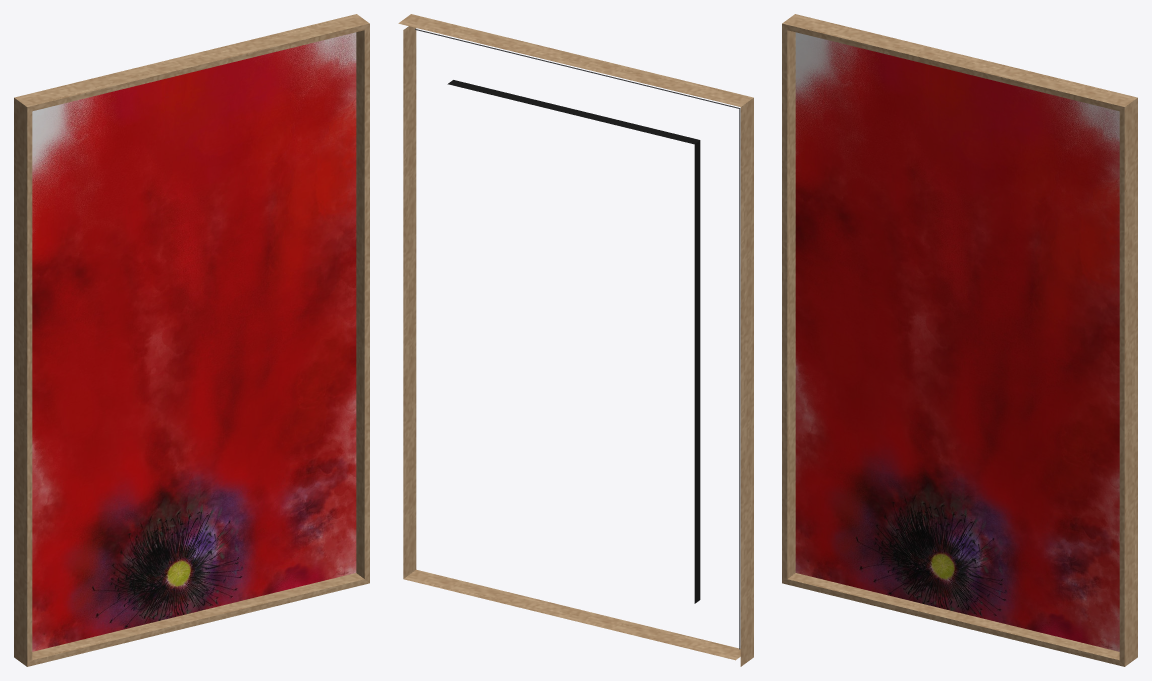
Rendered from os030_moyen_caisse-chene.glb.
3 renders of one model, left to right at view 1: azimuth 30°, elevation 25°; view 2: azimuth 150°, elevation 25°; view 3: azimuth 330°, elevation 25°, orthographic.
Parts seen in each view (by area): view 1: os030_moyen_caisse-chene; view 2: os030_moyen_caisse-chene; view 3: os030_moyen_caisse-chene.
Boxes of the visible parts, bbox=[...] form: os030_moyen_caisse-chene: bbox=[14, 14, 369, 666]; os030_moyen_caisse-chene: bbox=[398, 14, 753, 666]; os030_moyen_caisse-chene: bbox=[782, 14, 1137, 666].
Bounding box in the file's own units: 0.5304 × 0.828 × 0.035.
4 materials, 2 textured.
